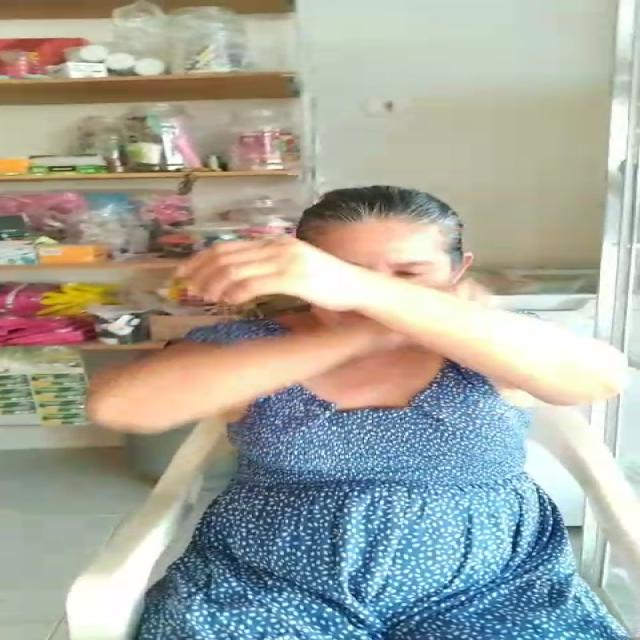7_mano_rostro: (278, 237, 468, 361)
